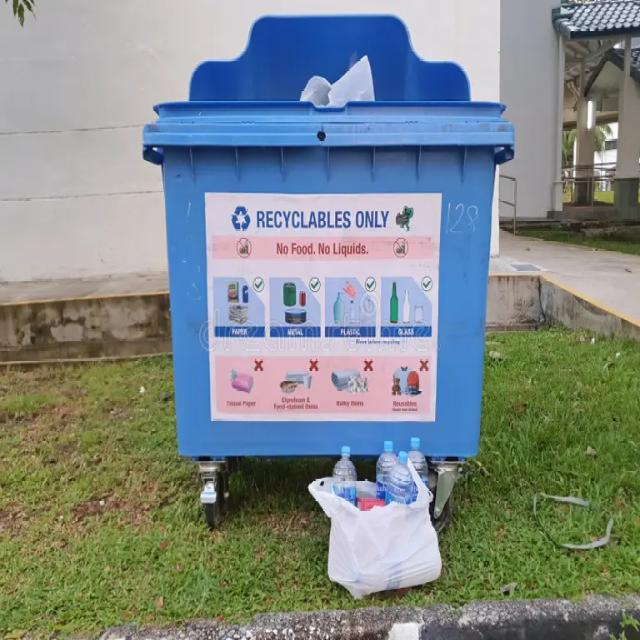bin_empty: (151, 14, 502, 482)
bulk_waste: (299, 56, 387, 102)
normal_waste: (320, 442, 450, 606)
